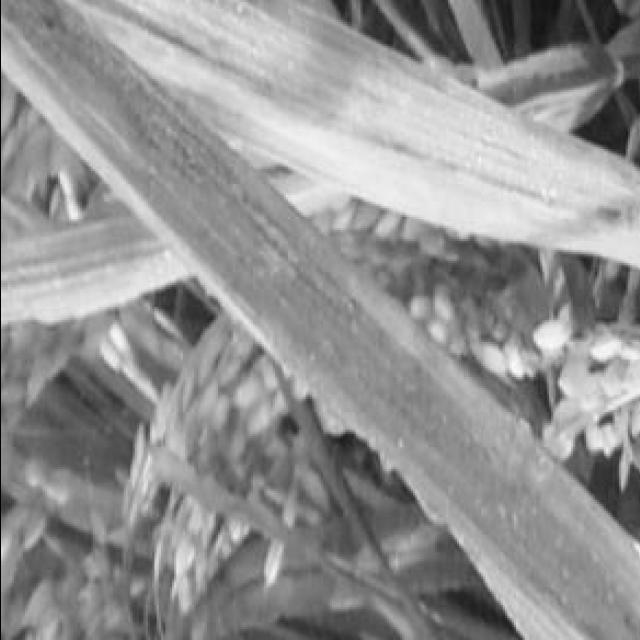Bacterial_Leaf_Blight: (445, 427, 640, 640)
